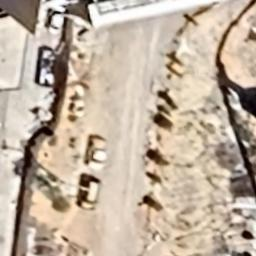SUV: (77, 173, 102, 214)
sedan: (84, 132, 110, 174), (44, 3, 66, 36)
truck: (34, 46, 57, 90)
